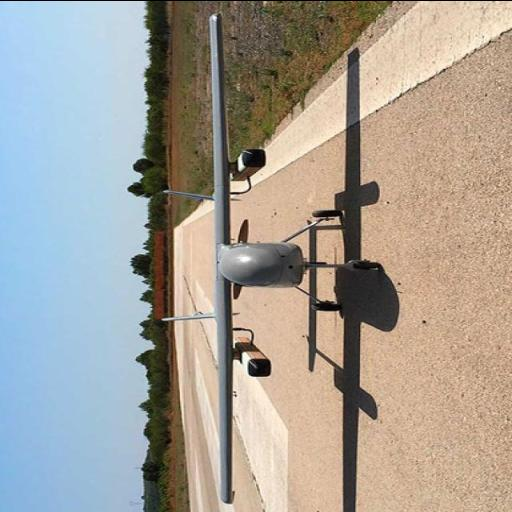uav: (155, 8, 353, 502)
